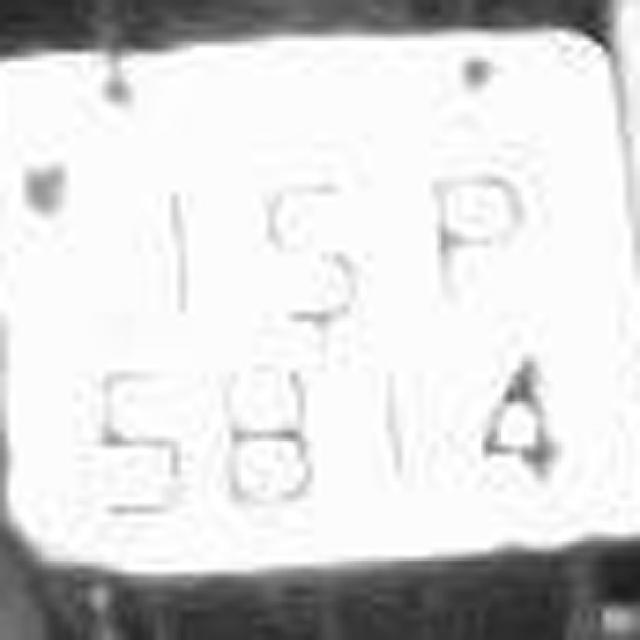1: (340, 324, 468, 528)
4: (448, 320, 588, 512)
5: (40, 344, 228, 528)
8: (188, 320, 344, 535)
O: (115, 144, 240, 348)
P: (404, 152, 551, 332)
S: (229, 164, 396, 324)
